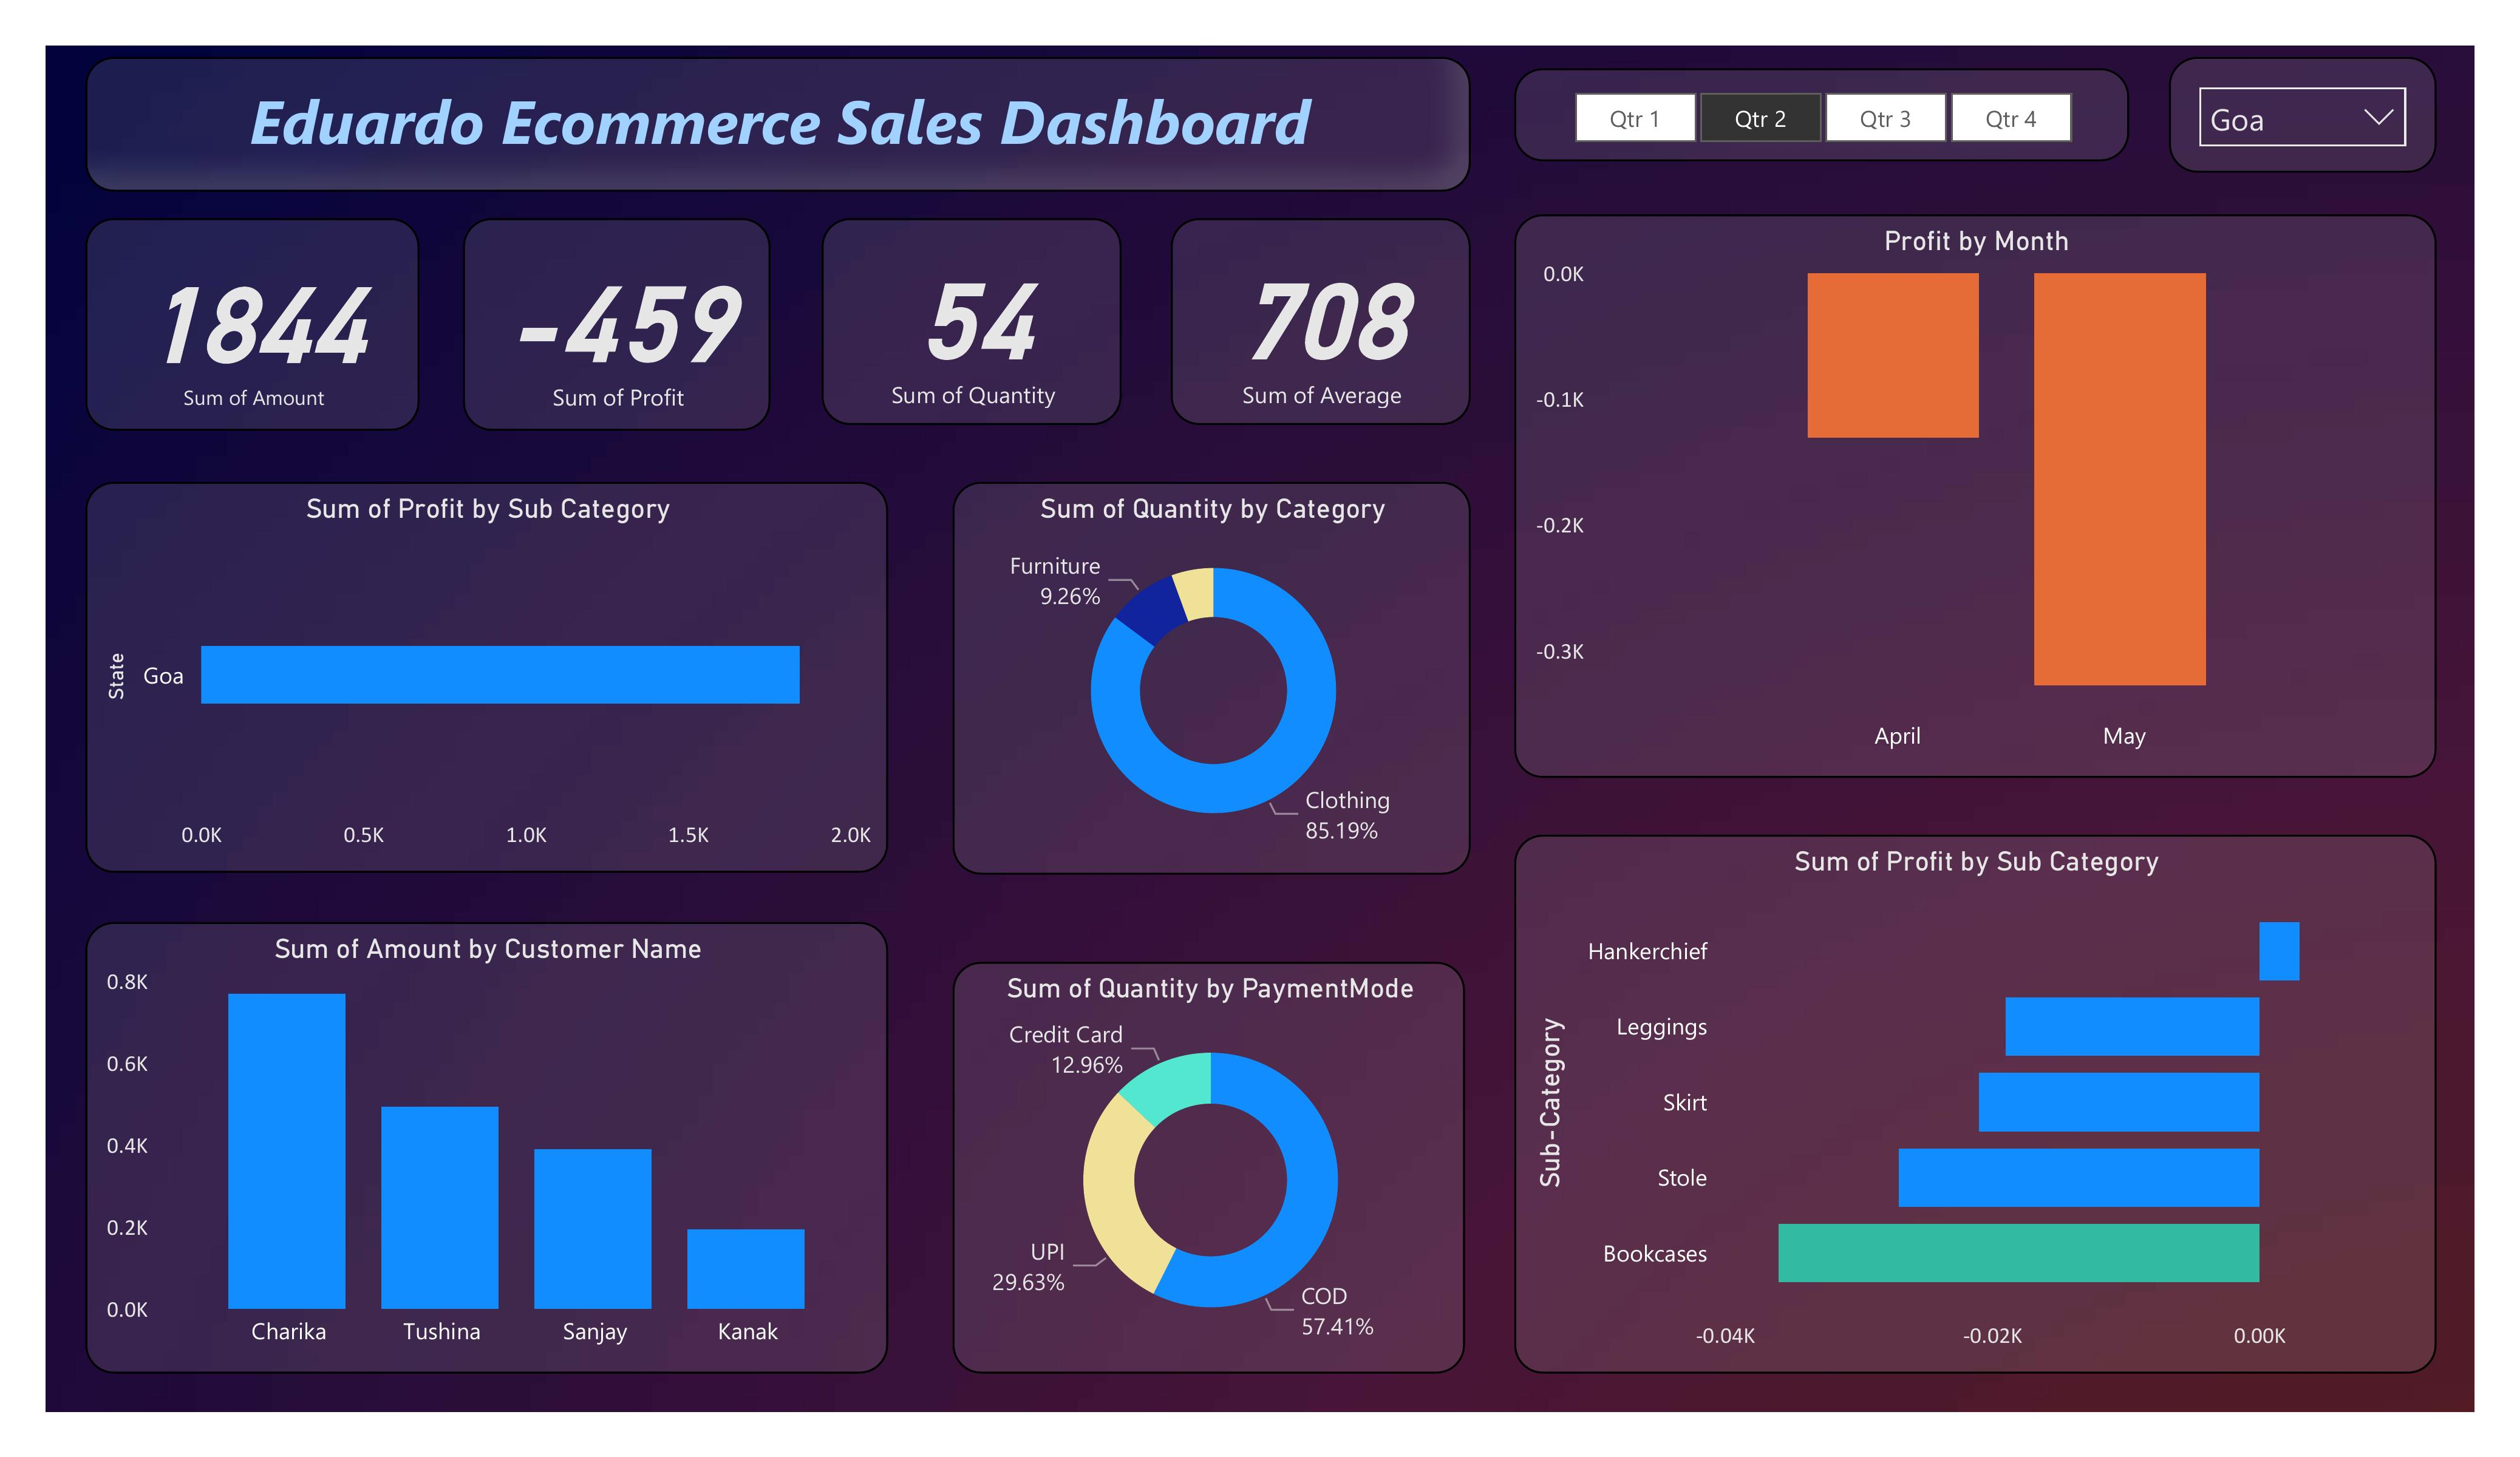

The dashboard page shown, as its layout file describes it:
{"tool":"powerbi","page":{"name":"Page 1","canvas":[1280,720],"ordinal":0},"visuals":[{"type":"columnChart","title":"Profit by Month","fields":{"Category":["Orders.Order Date.Variation.Date Hierarchy.Month"],"Y":["Details.Profit"]},"box":[774.4,88.9,485.6,296.7],"z":0},{"type":"barChart","title":"Sum of Profit by Sub Category","fields":{"Category":["Details.Sub-Category"],"Y":["Details.Profit"]},"box":[774.4,415.6,485.6,284.4],"z":1000},{"type":"donutChart","fields":{"Category":["Details.Category"],"Y":["Details.Quantity"]},"box":[477.8,230,273.3,206.7],"z":2000},{"type":"donutChart","fields":{"Y":["Details.Quantity"],"Category":["Details.PaymentMode"]},"box":[477.8,483.3,270,216.7],"z":3000},{"type":"card","fields":{"Values":["Details.Amount"]},"box":[21.1,91.1,175.6,112.2],"z":4000},{"type":"card","fields":{"Values":["Details.Profit"]},"box":[220,91.1,162.2,112.2],"z":5000},{"type":"card","fields":{"Values":["Details.Quantity"]},"box":[408.9,91.1,157.8,108.9],"z":6000},{"type":"card","fields":{"Values":["Details.Average"]},"box":[593.3,91.1,157.8,108.9],"z":7000},{"type":"barChart","title":"Sum of Profit by Sub Category","fields":{"Category":["Orders.State"],"Y":["Details.Amount"]},"box":[21.1,230,423.3,205.6],"z":8000},{"type":"columnChart","fields":{"Category":["Orders.Customer Name"],"Y":["Details.Amount"]},"box":[21.1,462.2,423.3,237.8],"z":9000},{"type":"slicer","fields":{"Values":["Orders.State"]},"box":[1118.9,5.6,141.1,61.1],"z":10000},{"type":"slicer","fields":{"Values":["Orders.Order Date.Variation.Date Hierarchy.Quarter"]},"box":[774.4,12.2,323.3,48.9],"z":11000},{"type":"textbox","box":[21.1,5.6,730,71.1],"z":12000}]}

Visuals, with their boxes on the page's 1280x720 design canvas (x1, y1, x2, y2). These are canvas units, not pixel positions in the 2520x1457 screenshot, which may show the page scaled, cropped or inside an application window:
"Profit by Month" columnChart: (left=774, top=89, right=1260, bottom=386)
"Sum of Profit by Sub Category" barChart: (left=774, top=416, right=1260, bottom=700)
donutChart - Details.Category x Details.Quantity: (left=478, top=230, right=751, bottom=437)
donutChart - Details.Quantity x Details.PaymentMode: (left=478, top=483, right=748, bottom=700)
card - Details.Amount: (left=21, top=91, right=197, bottom=203)
card - Details.Profit: (left=220, top=91, right=382, bottom=203)
card - Details.Quantity: (left=409, top=91, right=567, bottom=200)
card - Details.Average: (left=593, top=91, right=751, bottom=200)
"Sum of Profit by Sub Category" barChart: (left=21, top=230, right=444, bottom=436)
columnChart - Orders.Customer Name x Details.Amount: (left=21, top=462, right=444, bottom=700)
slicer - Orders.State: (left=1119, top=6, right=1260, bottom=67)
slicer - Orders.Order Date.Variation.Date Hierarchy.Quarter: (left=774, top=12, right=1098, bottom=61)
textbox: (left=21, top=6, right=751, bottom=77)
